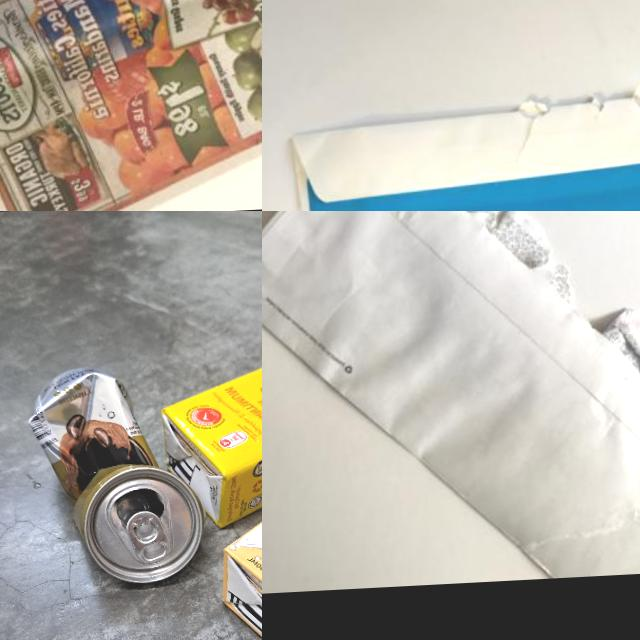aba de lata: (125, 510, 168, 565)
caixinha: (155, 323, 262, 532)
lata: (26, 363, 208, 592)
papel: (262, 211, 640, 595), (286, 24, 640, 211), (0, 0, 262, 211)
